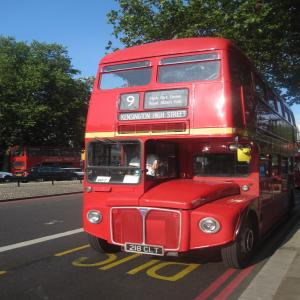Vehicle-registration-plate: (126, 244, 166, 258)
